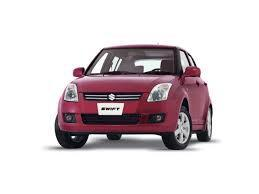Hatchback: (55, 43, 215, 150)
